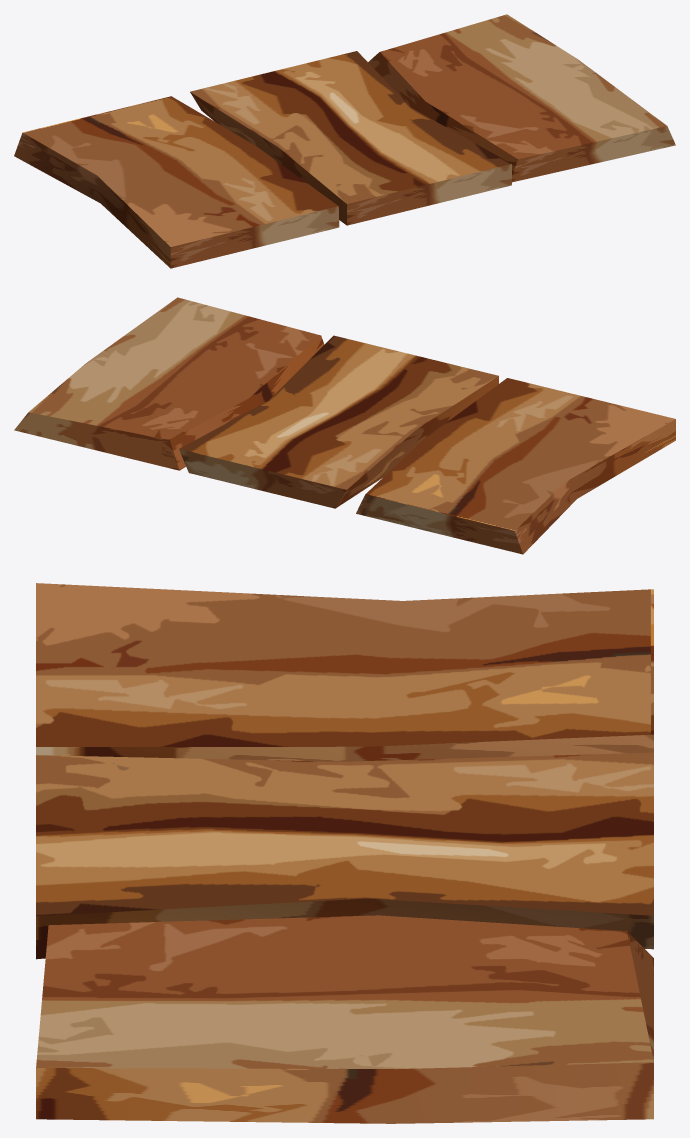
File: plankBridge.fbx
3 views of the same model, one above another, from view 1: azimuth 30°, elevation 25°; view 2: azimuth 150°, elevation 25°; view 3: azimuth 270°, elevation 25° (orthographic). The views are drawn at different scales.
Visible parts, largest first — view 1: plank3, plank2, plank1; view 2: plank3, plank2, plank1; view 3: plank1, plank2, plank3.
Part boxes in pixels (left/top/right/bottom): plank3: left=14, top=96, right=339, bottom=268; plank2: left=190, top=51, right=511, bottom=225; plank1: left=368, top=14, right=675, bottom=182; plank3: left=356, top=378, right=675, bottom=554; plank2: left=179, top=335, right=498, bottom=508; plank1: left=14, top=297, right=324, bottom=470; plank1: left=36, top=915, right=653, bottom=1123; plank2: left=36, top=752, right=653, bottom=959; plank3: left=36, top=583, right=653, bottom=761.
Bounding box in the file's own units: 0.1424 × 0.00572 × 0.0744.
1 material, 1 textured.
